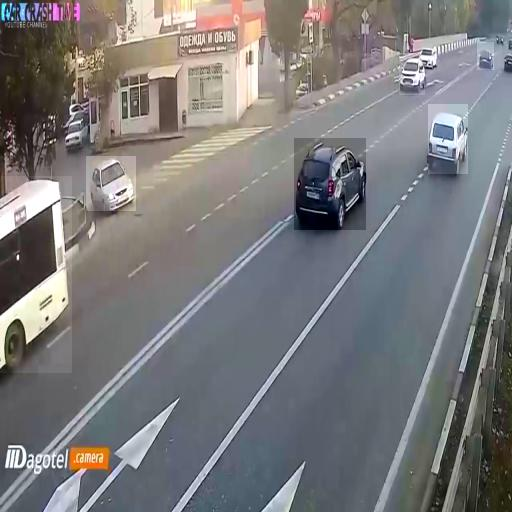小汽车: (0, 176, 72, 373), (294, 138, 366, 230), (428, 104, 468, 174), (86, 156, 136, 211), (399, 54, 425, 96), (64, 115, 88, 151), (420, 43, 440, 73), (477, 42, 494, 70), (502, 46, 512, 78)
